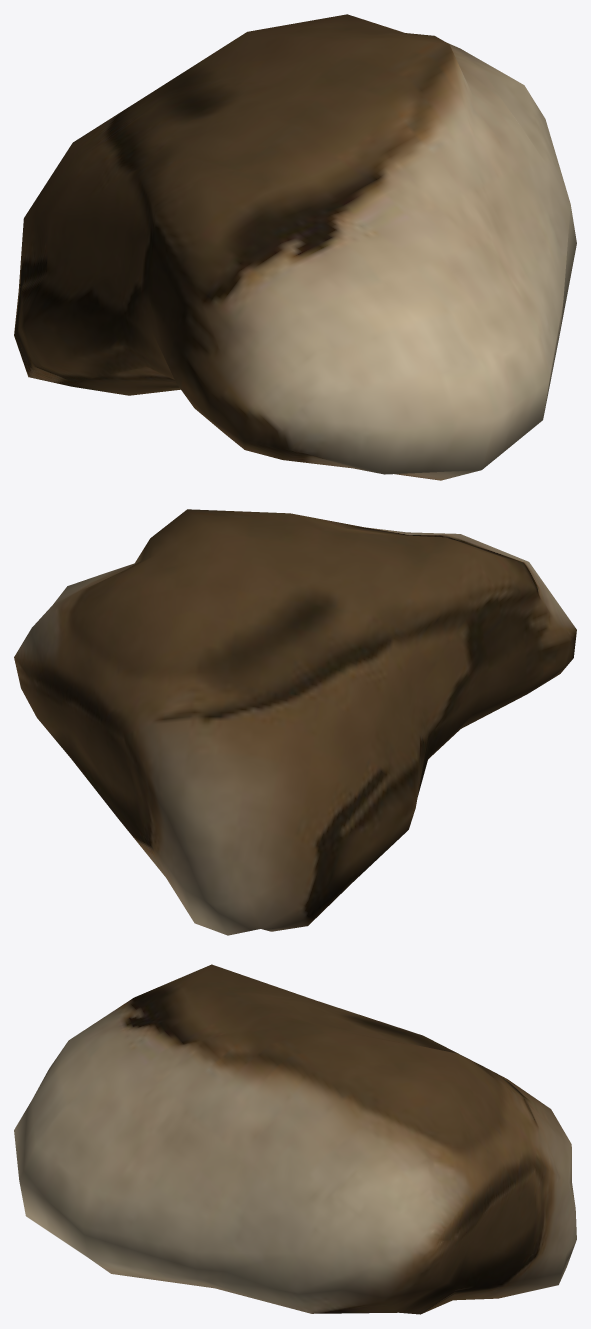
The model's file is Distal_Carpal_II.glb.
3 renders of one model, top to bottom at view 1: azimuth 30°, elevation 25°; view 2: azimuth 150°, elevation 25°; view 3: azimuth 270°, elevation 25°, orthographic. The views are drawn at different scales.
Parts seen in each view (by area): view 1: Distal_Carpal_II_Right1:Group50524; view 2: Distal_Carpal_II_Right1:Group50524; view 3: Distal_Carpal_II_Right1:Group50524.
Boxes of the visible parts, bbox=[...] form: Distal_Carpal_II_Right1:Group50524: bbox=[14, 14, 576, 480]; Distal_Carpal_II_Right1:Group50524: bbox=[14, 509, 576, 935]; Distal_Carpal_II_Right1:Group50524: bbox=[14, 964, 576, 1314].
Bounding box in the file's own units: 7.8 × 5.49 × 9.59.
1 material, 1 textured.
